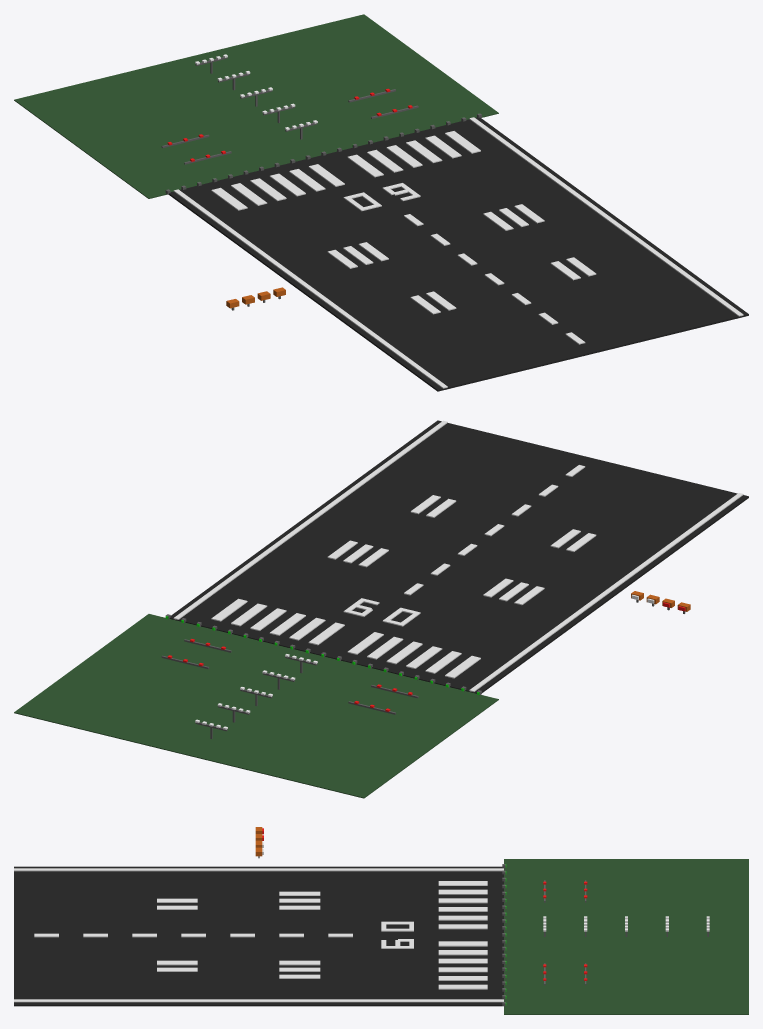
Rendered from runway_head.obj.
The picture shows the model from 3 angles, top to bottom: view 1: azimuth 30°, elevation 25°; view 2: azimuth 150°, elevation 25°; view 3: azimuth 270°, elevation 25°; orthographic projection. The views are drawn at different scales.
Bounding box in the file's own units: 52.1 × 1.9 × 90.
